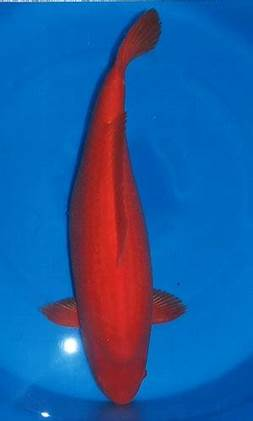red: (38, 9, 187, 406)
